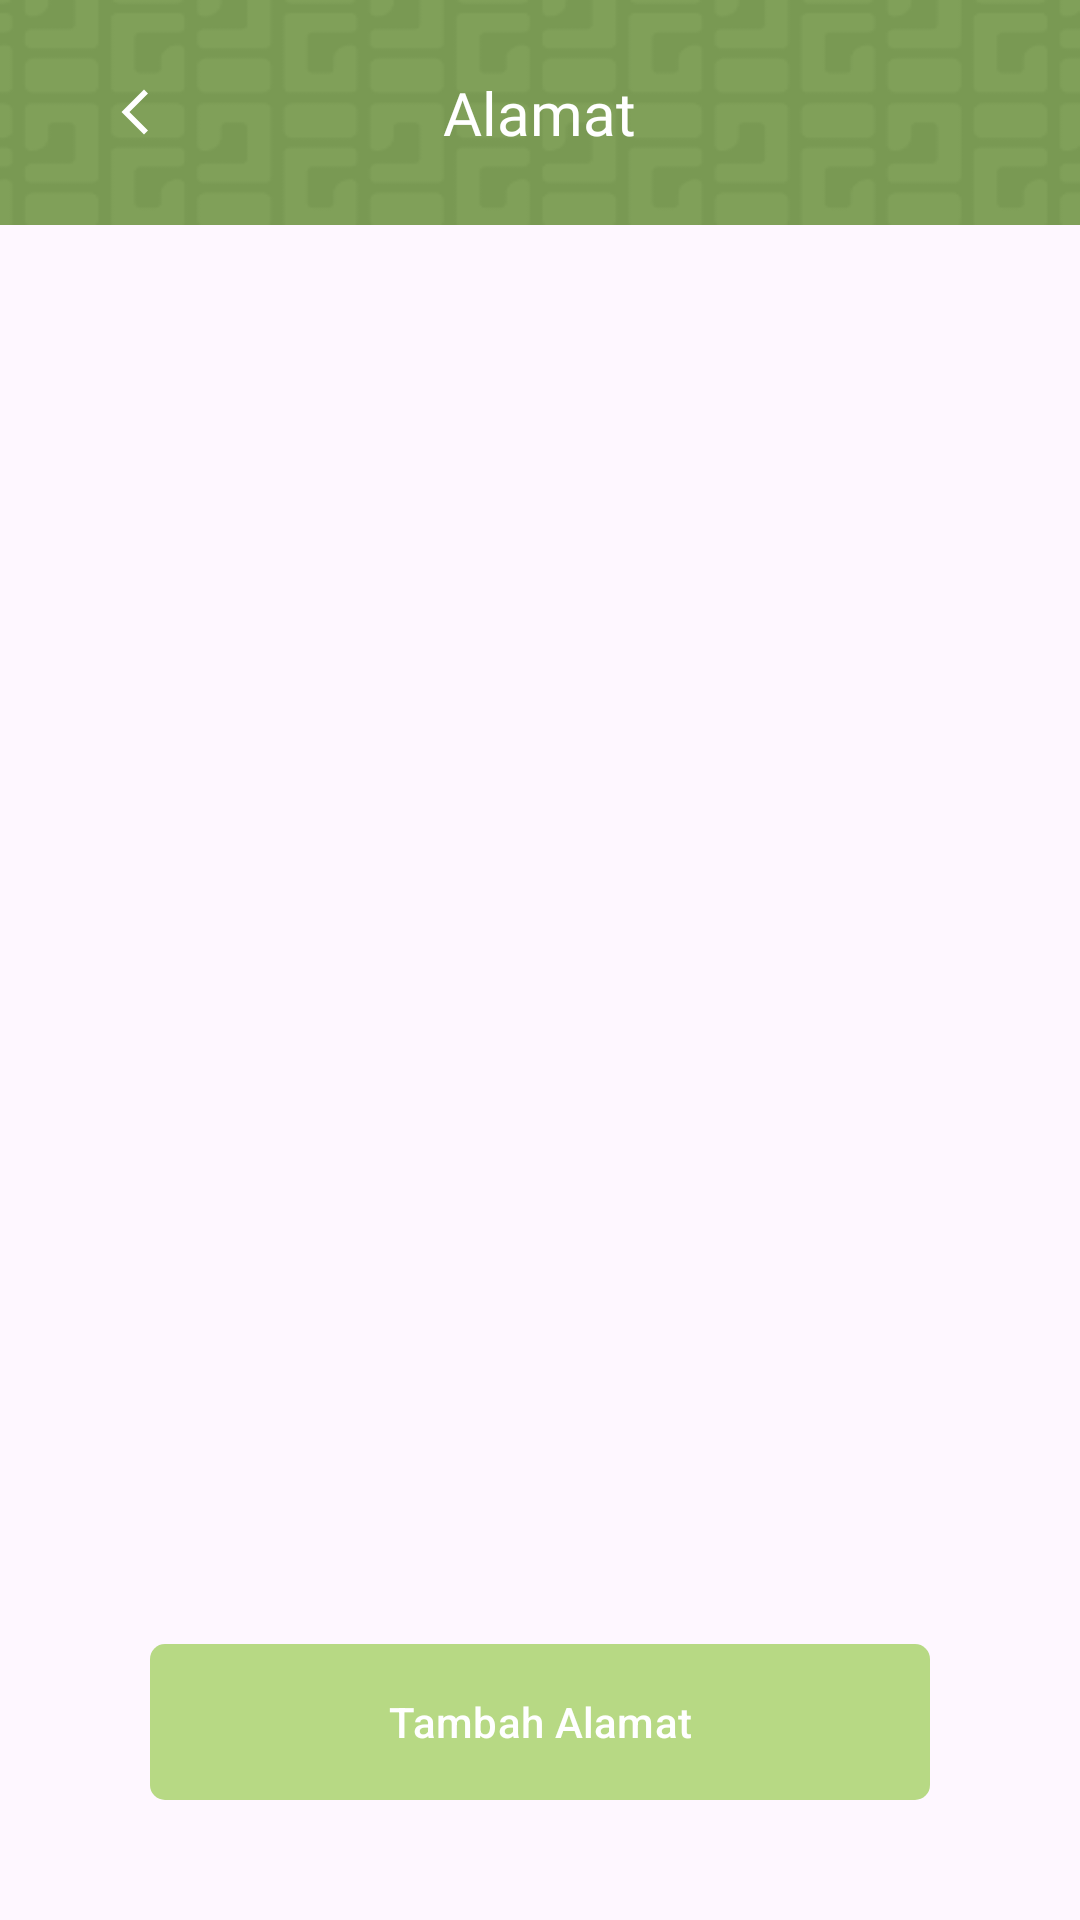

Icon bounding boxes for this 1080x1920 phone screenshot, format (x1, y1, x2, y2):
back: (121, 89, 148, 135)
